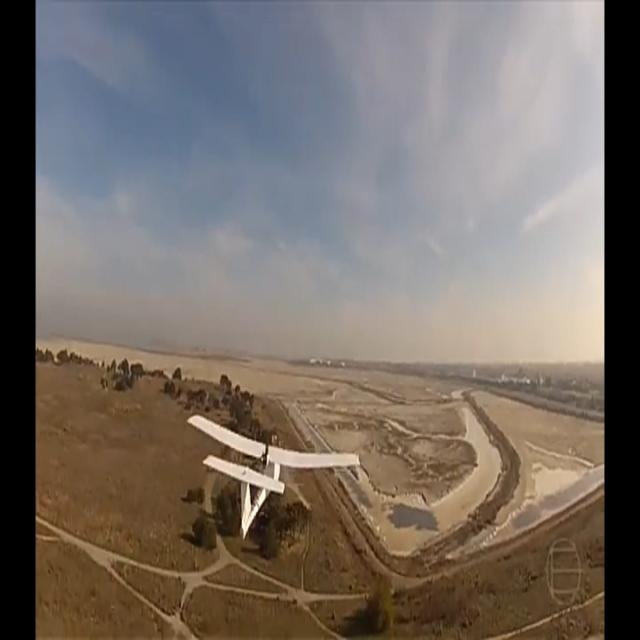iha: (187, 406, 361, 550)
